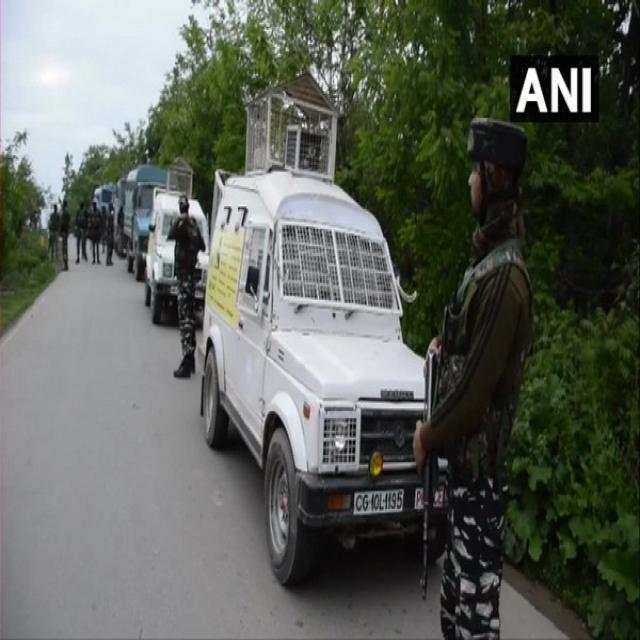plate: (347, 488, 408, 518)
